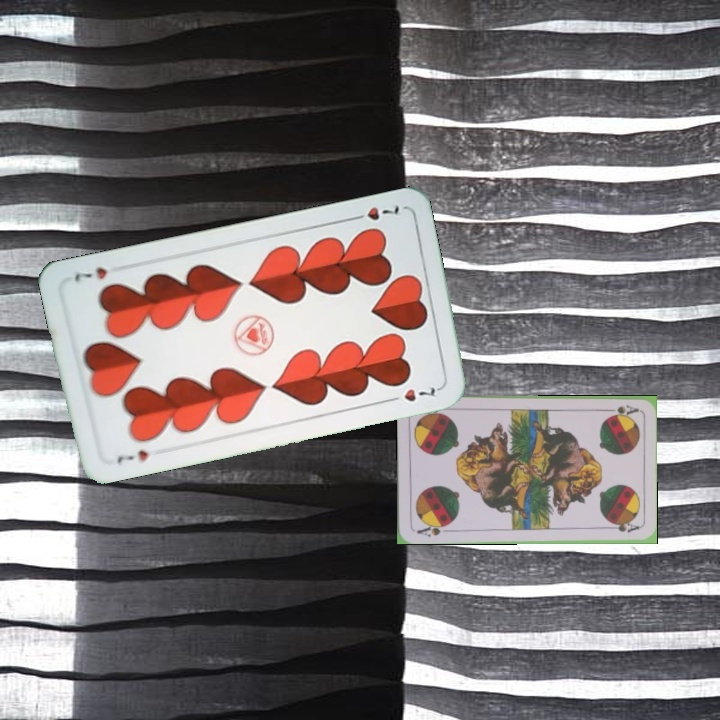H7: (346, 201, 403, 223), (113, 446, 151, 466)
SA: (413, 520, 452, 539), (600, 401, 640, 418)
